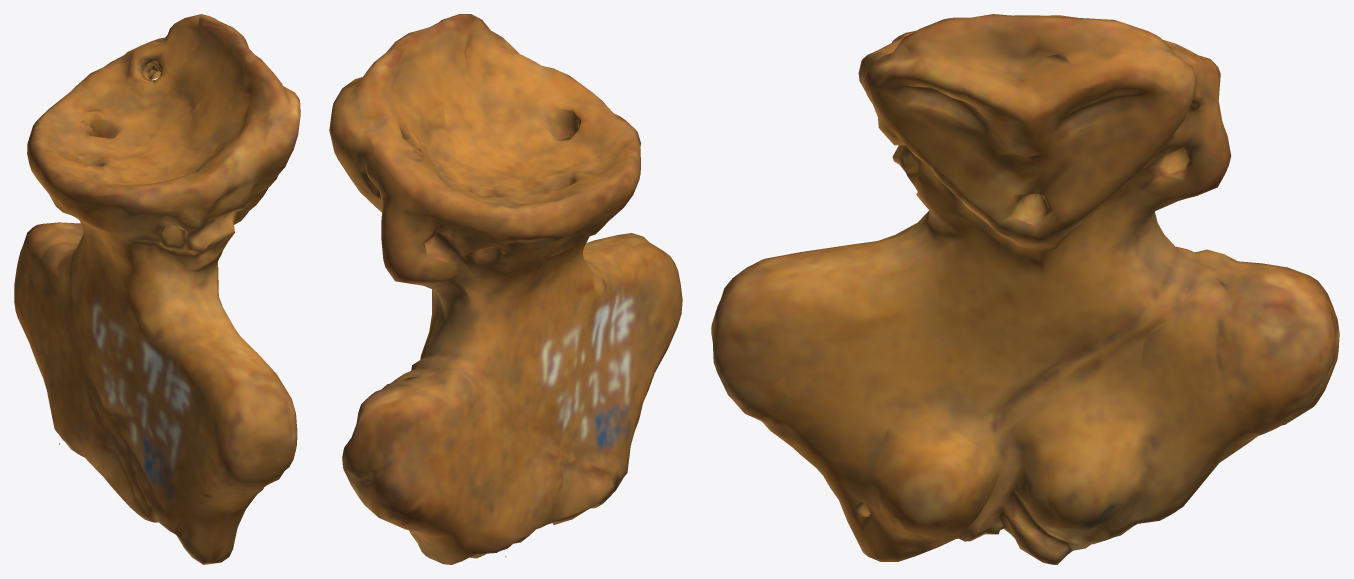
3 views of the same model, side by side, from view 1: azimuth 30°, elevation 25°; view 2: azimuth 150°, elevation 25°; view 3: azimuth 270°, elevation 25° (orthographic). The views are drawn at different scales.
Parts seen in each view (by area): view 1: TK0020.001; view 2: TK0020.001; view 3: TK0020.001.
Part boxes in pixels (x1=…): TK0020.001: x1=14, y1=14, x2=300, y2=564; TK0020.001: x1=329, y1=14, x2=682, y2=564; TK0020.001: x1=711, y1=14, x2=1339, y2=564.
Bounding box in the file's own units: 26.1 × 50.96 × 49.19.
1 material, 1 textured.
